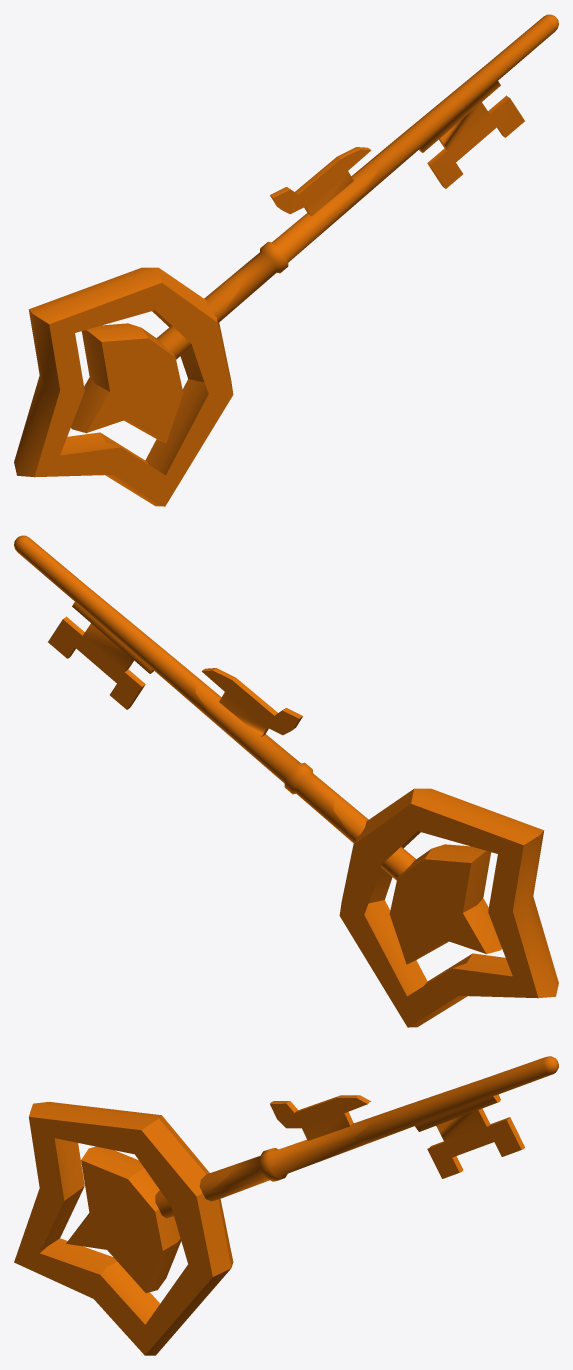
File: full.FBX
3 views of the same model, one above another, from view 1: azimuth 30°, elevation 25°; view 2: azimuth 150°, elevation 25°; view 3: azimuth 330°, elevation 25° (orthographic).
Visible parts, largest first — view 1: OilTank001; view 2: OilTank001; view 3: OilTank001.
Part boxes in pixels (x1,y1,x2,y2): OilTank001: (14, 14, 558, 506); OilTank001: (14, 535, 558, 1027); OilTank001: (14, 1056, 558, 1355).
Size of the model in its own units: 16.9 by 11.8 by 1.11.
